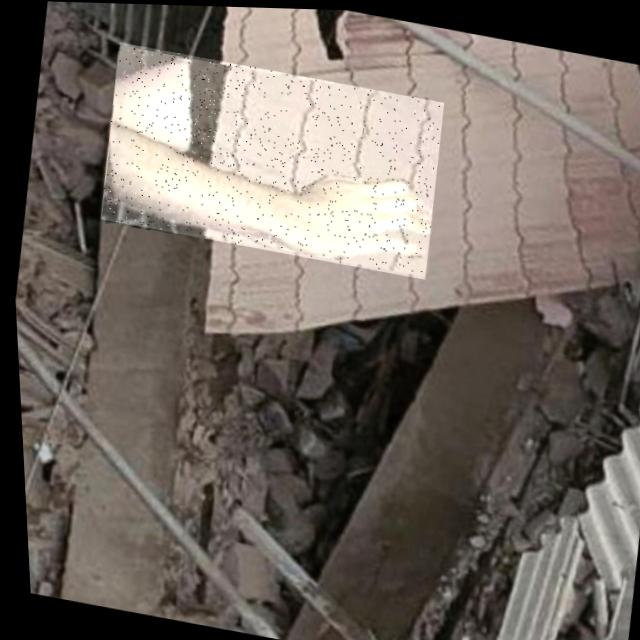Person in Rubble: (90, 41, 449, 278)
